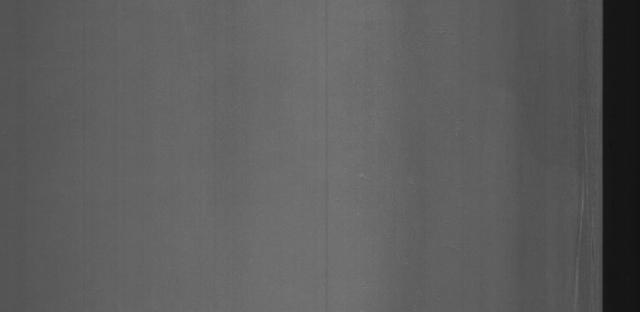silk_spot: (559, 142, 599, 308)
